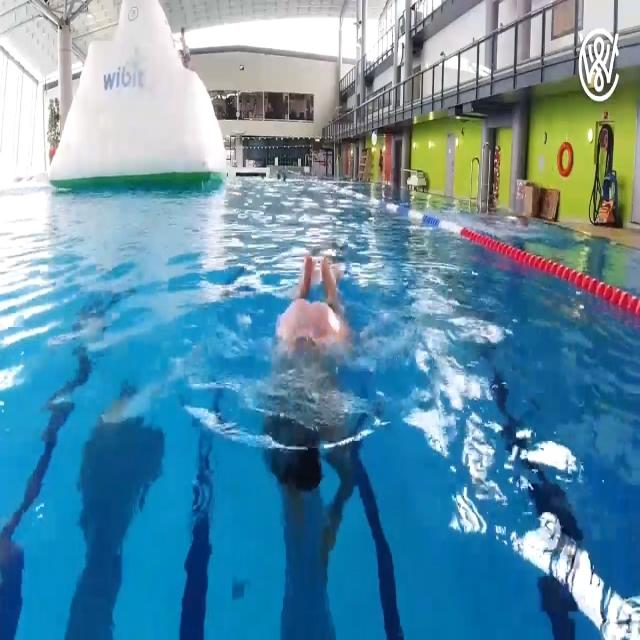Swimming: (262, 249, 356, 500)
